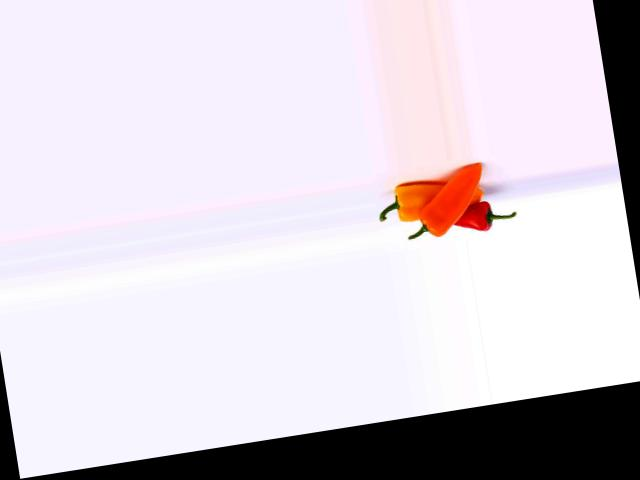bell_pepper: (370, 168, 459, 230)
